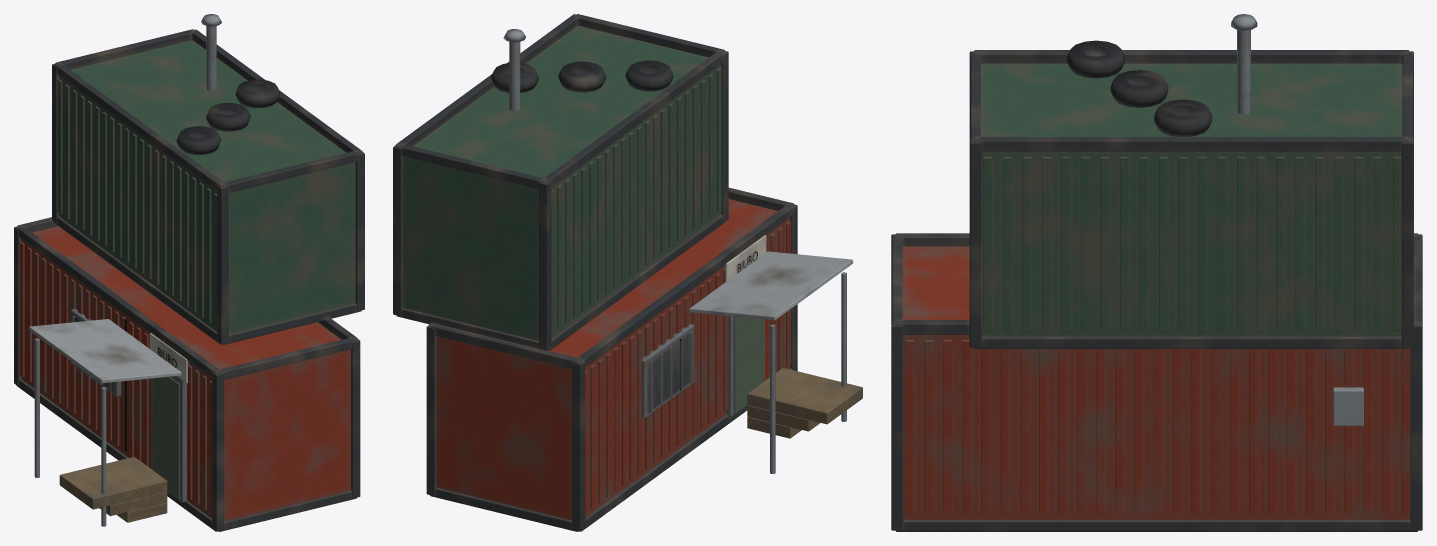
Rendered from zlom_biuro.glb.
3 views of the same model, side by side, from view 1: azimuth 30°, elevation 25°; view 2: azimuth 150°, elevation 25°; view 3: azimuth 270°, elevation 25° (orthographic). The views are drawn at different scales.
Visible parts, largest first — view 1: Biuro; view 2: Biuro; view 3: Biuro.
Boxes of the visible parts, x1=… form: Biuro: x1=14, y1=14, x2=364, y2=531; Biuro: x1=393, y1=14, x2=862, y2=531; Biuro: x1=891, y1=14, x2=1422, y2=531.
Size of the model in its own units: 4.7 by 6.42 by 6.1.
2 materials, 2 textured.
